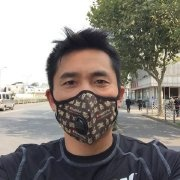Mask: (54, 69, 128, 143)
